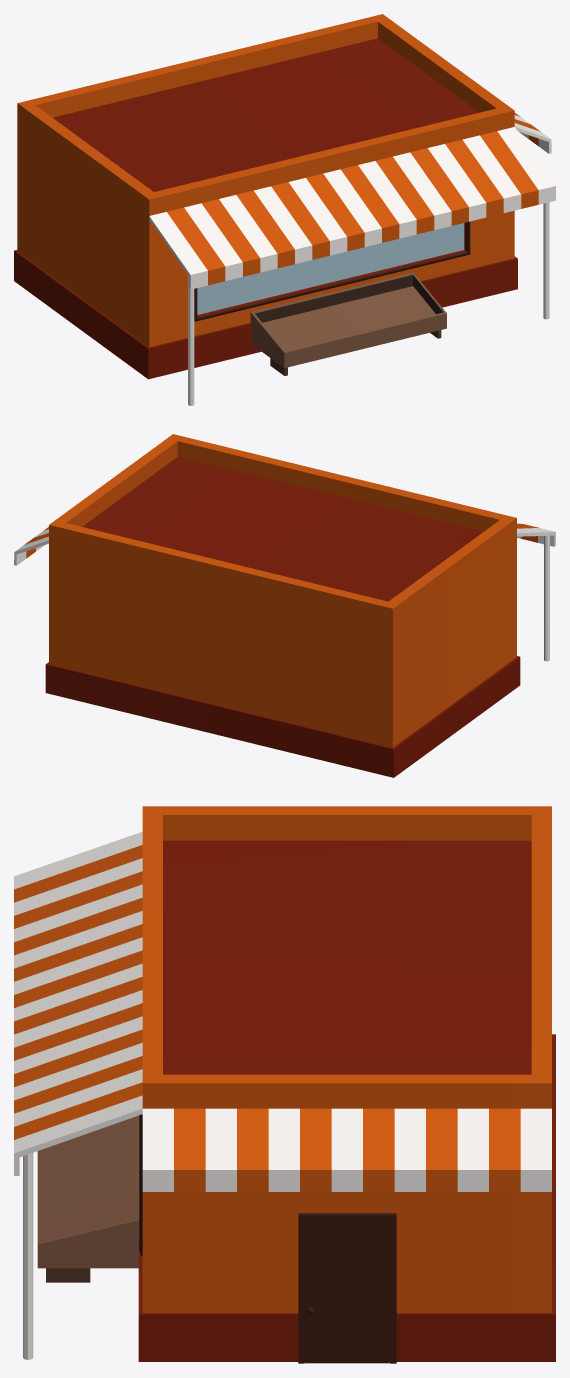
The model's file is Env_CommercialBuilding_03.fbx.
3 views of the same model, one above another, from view 1: azimuth 30°, elevation 25°; view 2: azimuth 150°, elevation 25°; view 3: azimuth 270°, elevation 25° (orthographic). The views are drawn at different scales.
Visible parts, largest first — view 1: Env_CommercialBuilding_03; view 2: Env_CommercialBuilding_03; view 3: Env_CommercialBuilding_03.
Part boxes in pixels (x1,y1,x2,y2): Env_CommercialBuilding_03: [14, 14, 555, 405]; Env_CommercialBuilding_03: [14, 434, 555, 777]; Env_CommercialBuilding_03: [14, 806, 555, 1363].
Size of the model in its own units: 1064 by 450 by 794.
1 material, 1 textured.
